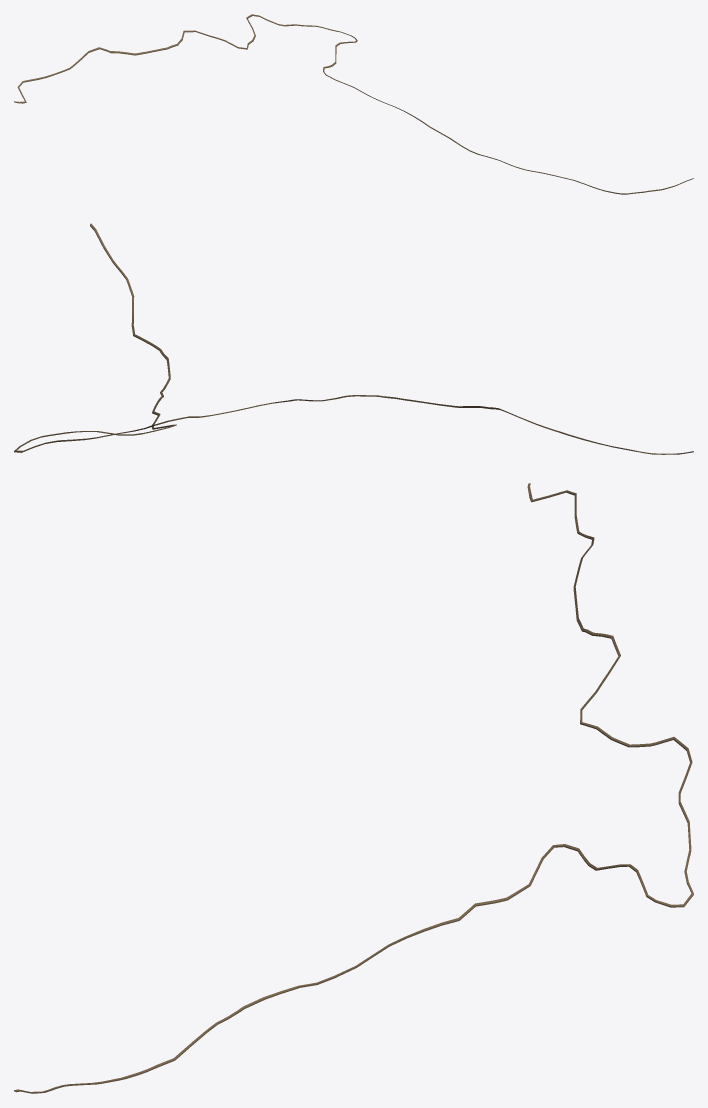
The picture shows the model from 3 angles, top to bottom: view 1: azimuth 30°, elevation 25°; view 2: azimuth 150°, elevation 25°; view 3: azimuth 270°, elevation 25°; orthographic projection. The views are drawn at different scales.
Size of the model in its own units: 586 by 141 by 381.
